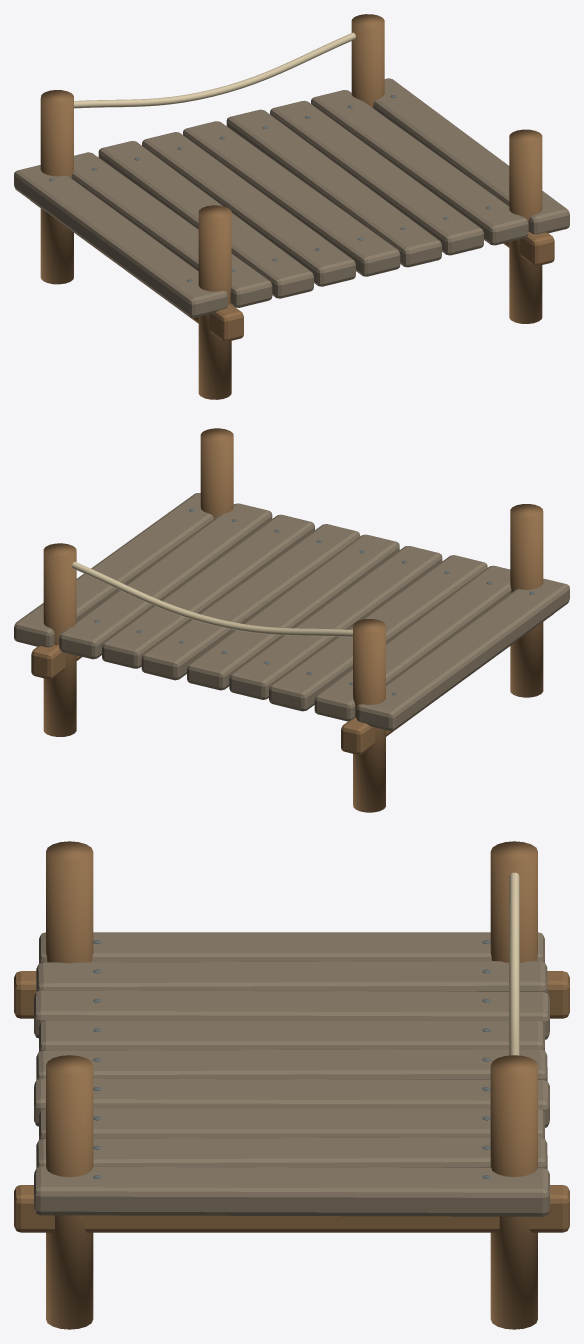
Rendered from pond_dock.glb.
3 renders of one model, top to bottom at view 1: azimuth 30°, elevation 25°; view 2: azimuth 150°, elevation 25°; view 3: azimuth 270°, elevation 25°, orthographic. The views are drawn at different scales.
Visible parts, largest first — view 1: DockPlank, DockPlank.005, DockPlank.004, DockPlank.007, DockPlank.006, DockPlank.003, DockPlank.002, DockPlank.001, DockPlank.008, DockPost, DockPost.002, DockPost.001 (+4 smaller); view 2: DockPlank, DockPlank.005, DockPlank.007, DockPlank.004, DockPlank.006, DockPlank.003, DockPlank.002, DockPlank.001, DockPlank.008, DockPost.003, DockPost.001, DockPost (+4 smaller); view 3: DockPlank.008, DockPlank.002, DockPlank.001, DockPlank.003, DockPlank.004, DockPlank.005, DockPlank.007, DockPlank.006, DockPlank, DockPost.002, DockPost.003, UnderBeam.001 (+4 smaller).
Boxes of the visible parts, x1,y1,x2,y2 form: DockPlank: (14, 165, 227, 317); DockPlank.005: (226, 109, 441, 267); DockPlank.004: (183, 121, 400, 276); DockPlank.007: (311, 90, 528, 245); DockPlank.006: (270, 100, 483, 255); DockPlank.003: (142, 132, 355, 286); DockPlank.002: (98, 141, 313, 298); DockPlank.001: (71, 152, 272, 307); DockPlank.008: (373, 78, 569, 234); DockPost: (198, 205, 231, 399); DockPost.002: (509, 129, 542, 323); DockPost.001: (40, 90, 73, 284); DockPlank: (357, 578, 569, 730); DockPlank.005: (141, 524, 360, 680); DockPlank.007: (59, 503, 272, 659); DockPlank.004: (187, 534, 399, 690); DockPlank.006: (102, 514, 314, 668); DockPlank.003: (229, 546, 442, 699); DockPlank.002: (269, 555, 487, 711); DockPlank.001: (314, 565, 511, 721); DockPlank.008: (14, 493, 213, 647); DockPost.003: (43, 543, 76, 736); DockPost.001: (353, 619, 385, 812); DockPost: (510, 504, 543, 697); DockPlank.008: (34, 1166, 549, 1216); DockPlank.002: (34, 990, 549, 1039); DockPlank.001: (36, 961, 547, 992); DockPlank.003: (39, 1020, 544, 1051); DockPlank.004: (36, 1049, 547, 1080); DockPlank.005: (34, 1078, 549, 1127); DockPlank.007: (36, 1137, 547, 1169); DockPlank.006: (39, 1108, 544, 1139); DockPlank: (39, 932, 544, 963); DockPost.002: (46, 1055, 93, 1329); DockPost.003: (490, 1055, 537, 1329); UnderBeam.001: (14, 1185, 569, 1232).
Bounding box in the file's own units: 2.23 × 1.01 × 2.
